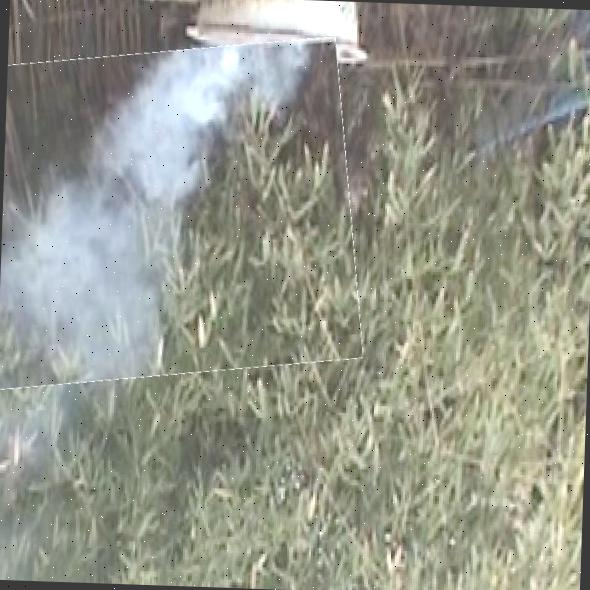smoke: (0, 36, 365, 392)
